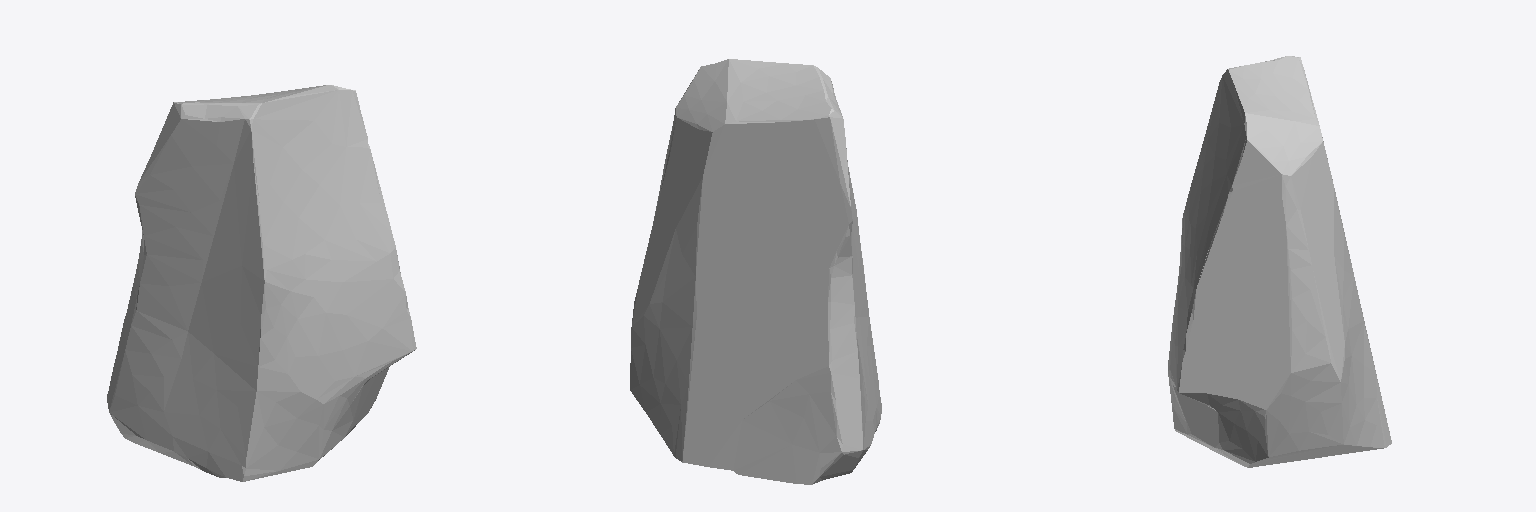
Rendered from sm_rock11.OBJ.
3 renders of one model, left to right at view 1: azimuth 30°, elevation 25°; view 2: azimuth 150°, elevation 25°; view 3: azimuth 270°, elevation 25°, orthographic.
Parts seen in each view (by area): view 1: ZBrushPolyMesh3D; view 2: ZBrushPolyMesh3D; view 3: ZBrushPolyMesh3D.
Part boxes in pixels (x1,y1,x2,y2): ZBrushPolyMesh3D: (107, 85, 416, 481); ZBrushPolyMesh3D: (630, 59, 881, 484); ZBrushPolyMesh3D: (1168, 56, 1391, 467).
Size of the model in its own units: 1.96 by 2.72 by 1.57.